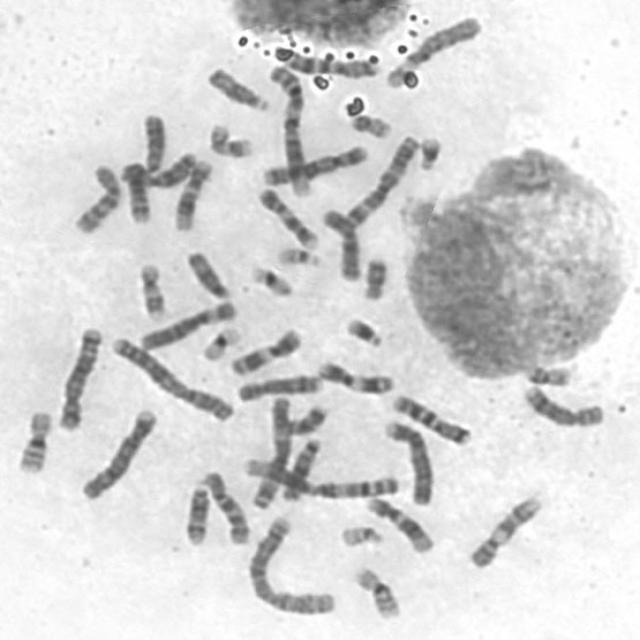A1: (236, 451, 402, 501), (263, 58, 315, 198)
A2: (105, 330, 237, 423), (242, 511, 340, 617)
A3: (339, 129, 421, 229), (247, 391, 294, 510)
B4: (75, 402, 159, 502), (378, 413, 436, 507)
B5: (51, 321, 105, 434), (256, 139, 371, 187)
C10: (196, 465, 253, 546), (67, 158, 124, 237)
C11: (224, 322, 304, 378), (311, 355, 398, 396)
C12: (360, 491, 436, 555), (167, 154, 216, 233)
C6: (380, 10, 486, 90), (135, 294, 240, 352)
C7: (385, 388, 475, 448), (268, 41, 382, 79)
C8: (516, 379, 609, 429), (232, 369, 325, 403)
C9: (464, 489, 546, 570), (252, 182, 322, 250)
D13: (277, 432, 325, 502), (136, 108, 168, 176)
D14: (179, 480, 212, 548), (121, 162, 151, 227)
D15: (201, 61, 272, 113), (180, 245, 234, 301)
E16: (348, 560, 405, 620), (10, 404, 56, 476)
E17: (132, 257, 170, 322), (203, 118, 257, 160)
E18: (279, 399, 330, 437), (357, 251, 391, 302)
F19: (244, 259, 296, 299), (196, 321, 243, 364)
F20: (519, 357, 578, 387), (345, 108, 393, 140)
G21: (339, 312, 386, 350), (413, 130, 444, 172)
G22: (334, 518, 386, 548), (271, 241, 325, 268)
X: (316, 202, 364, 283), (116, 146, 198, 190)
